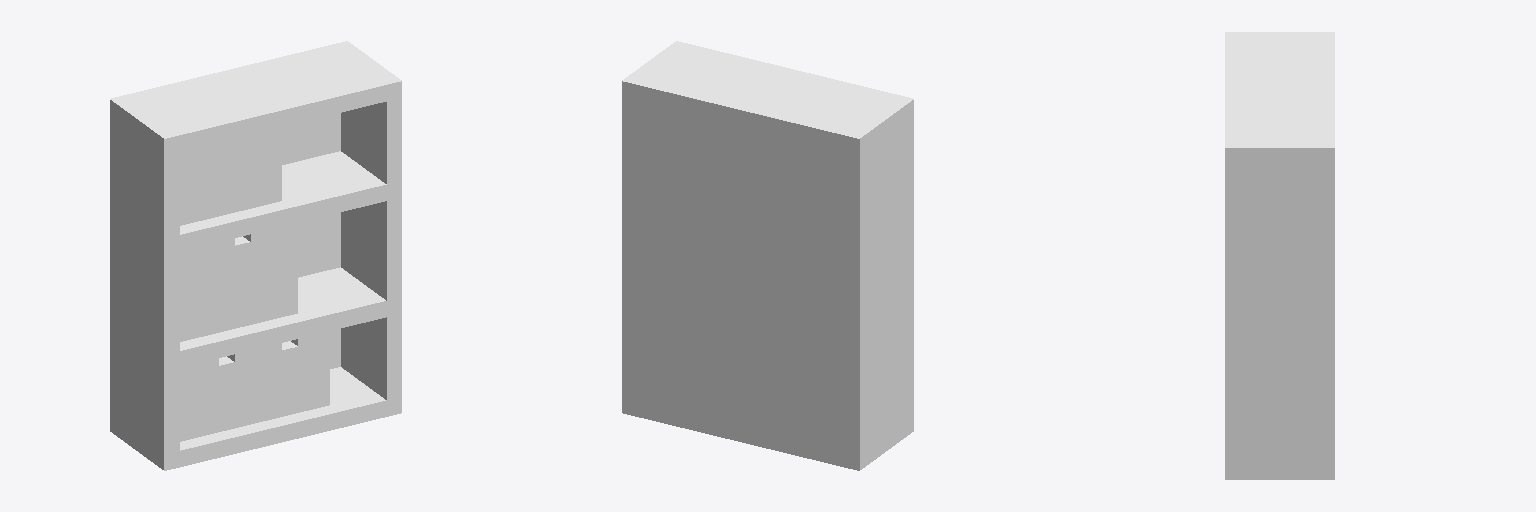
The model's file is house_heya_hondana.obj.
3 views of the same model, side by side, from view 1: azimuth 30°, elevation 25°; view 2: azimuth 150°, elevation 25°; view 3: azimuth 270°, elevation 25° (orthographic).
Size of the model in its own units: 15 by 20 by 6.